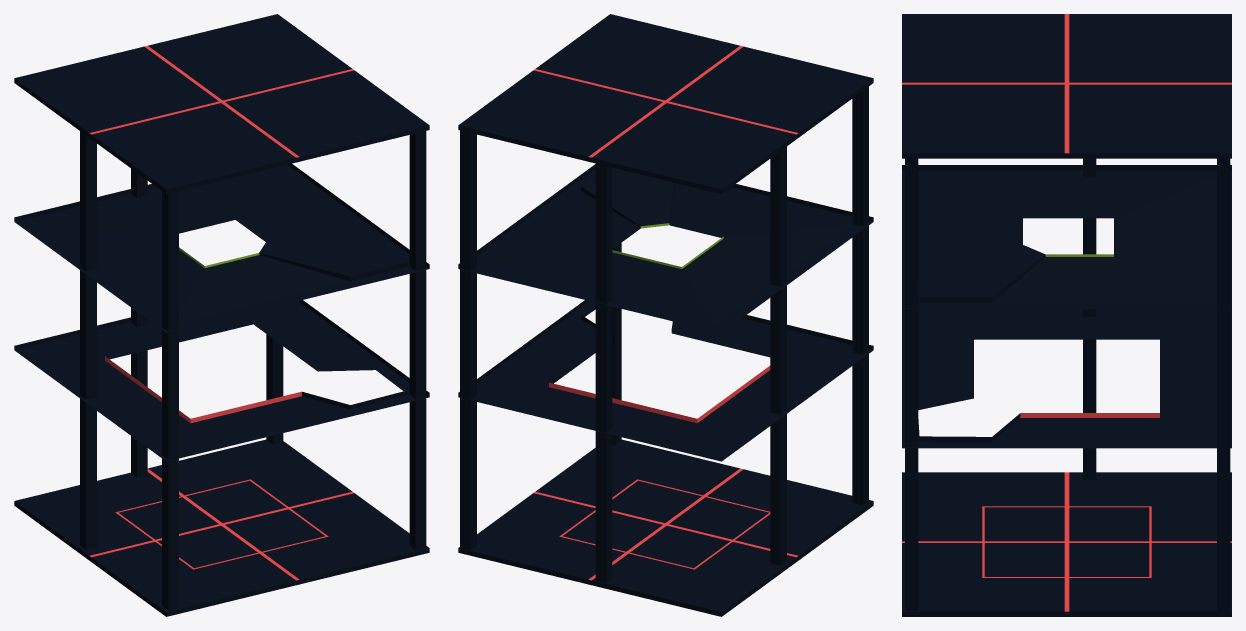
The model's file is build.glb.
The picture shows the model from 3 angles, left to right: view 1: azimuth 30°, elevation 25°; view 2: azimuth 150°, elevation 25°; view 3: azimuth 270°, elevation 25°; orthographic projection. The views are drawn at different scales.
Visible parts, largest first — view 1: Plane; view 2: Plane; view 3: Plane.
Part boxes in pixels (x1,y1,x2,y2): Plane: (14,14,429,616); Plane: (458,14,873,616); Plane: (902,14,1231,616).
Size of what is drawn, in the model's own units: 6 by 9.31 by 6.
Materials: 1 (1 with a texture image).
